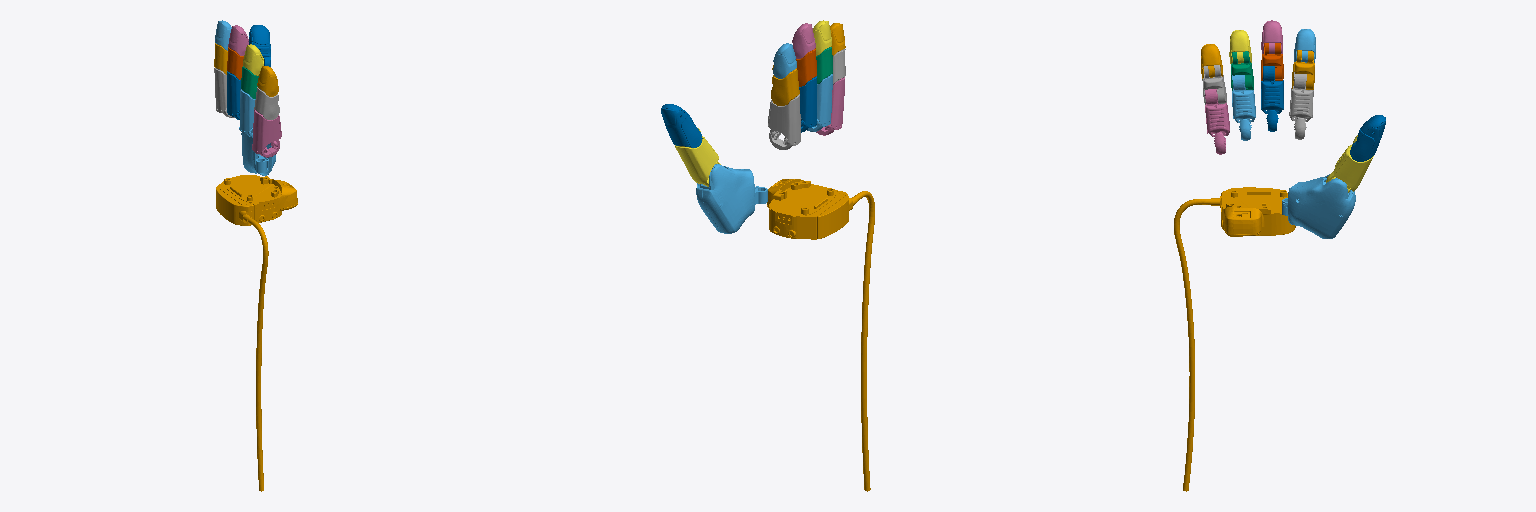
robot.urdf — p24_r_hand:
<?xml version="1.0"?>
<!-- Generated from P2.4_Hand-DH-20241204.pdf. Lengths are in metres. -->
<robot name="p24_r_hand">
  <link name="palm">
    <inertial>
			<origin xyz="0.002067 0.005130 0.060716" rpy="0 0 0" />
			<mass value="0.957071" />
			<inertia ixx="0.005098" ixy="-0.000059" ixz="-0.000016" iyy="0.004495" iyz="-0.00032" izz="0.001042" />
		    </inertial>
		
    <visual>
      <geometry><mesh filename="meshes/visual/P2.4_Hand_R_Palm.STL"/></geometry>
    </visual>
    <visual>
      <geometry><mesh filename="meshes/visual/P2.4_Hand_R_Wrist.STL"/></geometry>
    </visual>
  </link>

  <!-- Right thumb topology and kinematics match agile_one_actuated_p24_hands.urdf. -->
  <link name="thumb_mp_link">
    <inertial>
			<origin xyz="0.035239 0.008155 0.027352" rpy="0 0 0" />
			<mass value="0.210044" />
			<inertia ixx="0.00023" ixy="-0.00007" ixz="-0.000185" iyy="0.000545" iyz="-0.00004" izz="0.00037" />
		    </inertial>
		
    <visual>
      <geometry><mesh filename="meshes/visual/P2.4_Hand_Thumb_MP.STL"/></geometry>
    </visual>
  </link>
  <joint name="thumb_dh_joint_1" type="revolute">
    <parent link="palm"/>
    <child link="thumb_mp_link"/>
    <origin xyz="0.02963 0.029696 0.070725" rpy="3.1415926 0 1.3352"/>
    <axis xyz="0 0 1"/>
    <limit lower="0" upper="1.169370599" effort="1" velocity="2"/>
  </joint>
  <link name="thumb_dh_2_link">
    <inertial>
			<origin xyz="0.031054 0.004577 -0.000485" rpy="0 0 0" />
			<mass value="0.08195" />
			<inertia ixx="0.00001" ixy="-0.000016" ixz="0.000002" iyy="0.00011" iyz="0.0" izz="0.000113" />
		    </inertial>
	</link>
  <joint name="thumb_dh_joint_2" type="revolute">
    <parent link="thumb_mp_link"/>
    <child link="thumb_dh_2_link"/>
    <origin xyz="0.05709627667 0.0143836573032 0.00242240917971" rpy="-1.30592529 0.88356936 0.20667985"/>
    <axis xyz="0 0 1"/>
    <limit lower="-0.3490658504" upper="1.3962634015" effort="1" velocity="2"/>
  </joint>
  <link name="thumb_ip_link">
    <inertial>
			<origin xyz="0.031054 -0.000485 0.004714" rpy="0 0 0" />
			<mass value="0.08195" />
			<inertia ixx="0.00001" ixy="0.000002" ixz="-0.000007" iyy="0.000113" iyz="0.0" izz="0.00011" />
		    </inertial>
		
    <visual>
      <geometry><mesh filename="meshes/visual/P2.4_Hand_R_Thumb_IP.STL"/></geometry>
    </visual>
  </link>
  <joint name="thumb_dh_joint_3" type="revolute">
    <parent link="thumb_dh_2_link"/>
    <child link="thumb_ip_link"/>
    <origin xyz="0 0.00929017751 0" rpy="1.5707963267949032679 0 0"/>
    <axis xyz="0 0 1"/>
    <limit lower="-0.3490658504" upper="0.3490658504" effort="1" velocity="2"/>
  </joint>
  <link name="thumb_mid_link">
    <inertial>
			<origin xyz="0.018374 -0.002648 0.001138" rpy="0 0 0" />
			<mass value="0.045492" />
			<inertia ixx="0.000004" ixy="0.000002" ixz="0.0" iyy="0.000025" iyz="0.0" izz="0.000025" />
		    </inertial>
		
    <visual>
      <geometry><mesh filename="meshes/visual/P2.4_Hand_Thumb_DIP.STL"/></geometry>
    </visual>
  </link>
  <joint name="thumb_dh_joint_4" type="revolute">
    <parent link="thumb_ip_link"/>
    <child link="thumb_mid_link"/>
    <origin xyz="0.05268721479 0 0" rpy="-1.5707963267949032679 0.26179939 0"/>
    <axis xyz="0 0 1"/>
    <limit lower="0" upper="1.3962634015" effort="1" velocity="2"/>
  </joint>

  <!--
    Virtual marker at the physical thumb tip. The offset is expressed in the
    thumb_mid_link frame and is estimated from the distal surface center of
    P2.4_Hand_Thumb_DIP.STL. Keeping it off the joint-4 axis makes the distal
    thumb flexion observable to position-based retargeting.
  -->
  <link name="thumb_tip_link"/>
  <joint name="thumb_tip_fixed" type="fixed">
    <parent link="thumb_mid_link"/>
    <child link="thumb_tip_link"/>
    <origin xyz="0.044 -0.0075 0" rpy="0 0 0"/>
  </joint>

  <!-- index: base pose and DH values from the supplied PDF. -->
  <link name="index_dh_1_link">
    <inertial>
			<origin xyz="0.027967 0.004188 -0.00067" rpy="0 0 0" />
			<mass value="0.072625" />
			<inertia ixx="0.000008" ixy="-0.000013" ixz="0.000003" iyy="0.000082" iyz="0.0" izz="0.000086" />
		    </inertial>
	</link>
  <joint name="index_dh_joint_1" type="revolute">
    <parent link="palm"/>
    <child link="index_dh_1_link"/>
    <origin xyz="-0.0005286 0.042073 0.10476" rpy="1.8029 -1.3021 2.9176"/>
    <axis xyz="0 0 1"/>
    <limit lower="0" upper="1.3962634016" effort="1" velocity="2"/>
  </joint>
  <link name="index_mp_link">
    <inertial>
			<origin xyz="0.027967 -0.000670 0.004668" rpy="0 0 0" />
			<mass value="0.072625" />
			<inertia ixx="0.000008" ixy="0.000003" ixz="-0.000005" iyy="0.000086" iyz="0.0" izz="0.000082" />
		    </inertial>
		
    <visual>
      <geometry><mesh filename="meshes/visual/Finger_R_MP.STL"/></geometry>
    </visual>
  </link>
  <joint name="index_dh_joint_2" type="revolute">
    <parent link="index_dh_1_link"/>
    <child link="index_mp_link"/>
    <origin xyz="0 0.008825605706 0" rpy="1.5707963267949032679 0 0"/>
    <axis xyz="0 0 1"/>
    <limit lower="-0.2617993878" upper="0.2617993878" effort="1" velocity="2"/>
  </joint>
  <link name="index_ip_link">
    <inertial>
			<origin xyz="-0.001563 0.014683 -0.001827" rpy="0 0 0" />
			<mass value="0.031821" />
			<inertia ixx="0.000012" ixy="0.000001" ixz="0.0" iyy="0.000002" iyz="0.000001" izz="0.000012" />
		    </inertial>
		
    <visual>
      <geometry><mesh filename="meshes/visual/Finger_IP.STL"/></geometry>
    </visual>
  </link>
  <joint name="index_dh_joint_3" type="revolute">
    <parent link="index_mp_link"/>
    <child link="index_ip_link"/>
    <origin xyz="0.0502251954 0 0" rpy="-1.5707963267949032679 0.2617993878 0"/>
    <axis xyz="0 0 1"/>
    <limit lower="0" upper="1.3962634016" effort="1" velocity="2"/>
  </joint>
  <link name="index_dip_link">
    <inertial>
			<origin xyz="-0.002097 0.009035 0.000249" rpy="0 0 0" />
			<mass value="0.013199" />
			<inertia ixx="0.000002" ixy="0.0" ixz="0.0" iyy="0.000001" iyz="0.0" izz="0.000002" />
		    </inertial>
		
    <visual>
      <geometry><mesh filename="meshes/visual/Finger_DIP.STL"/></geometry>
    </visual>
  </link>
  <joint name="index_dh_joint_4" type="revolute">
    <parent link="index_ip_link"/>
    <child link="index_dip_link"/>
    <origin xyz="0.028 0 0" rpy="0 0 0.08726646"/>
    <axis xyz="0 0 1"/>
    <limit lower="0" upper="1.3962634016" effort="1" velocity="2"/>
    <mimic joint="index_dh_joint_3" multiplier="1" offset="0"/>
  </joint>
  <link name="index_tip_link"></link>
  <joint name="index_tip_fixed" type="fixed">
    <parent link="index_dip_link"/>
    <child link="index_tip_link"/>
    <origin xyz="0.034 0 0" rpy="0 0 0"/>
  </joint>

  <!-- middle: base pose and DH values from the supplied PDF. -->
  <link name="middle_dh_1_link">
    <inertial>
			<origin xyz="0.027967 0.004188 -0.00067" rpy="0 0 0" />
			<mass value="0.072625" />
			<inertia ixx="0.000008" ixy="-0.000013" ixz="0.000003" iyy="0.000082" iyz="0.0" izz="0.000086" />
		    </inertial>
	</link>
  <joint name="middle_dh_joint_1" type="revolute">
    <parent link="palm"/>
    <child link="middle_dh_1_link"/>
    <origin xyz="-0.0023699 0.013696 0.11285" rpy="1.5708 -1.309 -3.1416"/>
    <axis xyz="0 0 1"/>
    <limit lower="0" upper="1.3962634016" effort="1" velocity="2"/>
  </joint>
  <link name="middle_mp_link">
    <inertial>
			<origin xyz="0.027967 -0.000670 0.004668" rpy="0 0 0" />
			<mass value="0.072625" />
			<inertia ixx="0.000008" ixy="0.000003" ixz="-0.000005" iyy="0.000086" iyz="0.0" izz="0.000082" />
		    </inertial>
		
    <visual>
      <geometry><mesh filename="meshes/visual/Finger_R_MP.STL"/></geometry>
    </visual>
  </link>
  <joint name="middle_dh_joint_2" type="revolute">
    <parent link="middle_dh_1_link"/>
    <child link="middle_mp_link"/>
    <origin xyz="0 0.008825605706 0" rpy="1.5707963267949032679 0 0"/>
    <axis xyz="0 0 1"/>
    <limit lower="-0.2617993878" upper="0.2617993878" effort="1" velocity="2"/>
  </joint>
  <link name="middle_ip_link">
    <inertial>
			<origin xyz="-0.001563 0.014683 -0.001827" rpy="0 0 0" />
			<mass value="0.031821" />
			<inertia ixx="0.000012" ixy="0.000001" ixz="0.0" iyy="0.000002" iyz="0.000001" izz="0.000012" />
		    </inertial>
		
    <visual>
      <geometry><mesh filename="meshes/visual/Finger_IP.STL"/></geometry>
    </visual>
  </link>
  <joint name="middle_dh_joint_3" type="revolute">
    <parent link="middle_mp_link"/>
    <child link="middle_ip_link"/>
    <origin xyz="0.0502251954 0 0" rpy="-1.5707963267949032679 0.2617993878 0"/>
    <axis xyz="0 0 1"/>
    <limit lower="0" upper="1.3962634016" effort="1" velocity="2"/>
  </joint>
  <link name="middle_dip_link">
    <inertial>
			<origin xyz="-0.002097 0.009035 0.000249" rpy="0 0 0" />
			<mass value="0.013199" />
			<inertia ixx="0.000002" ixy="0.0" ixz="0.0" iyy="0.000001" iyz="0.0" izz="0.000002" />
		    </inertial>
		
    <visual>
      <geometry><mesh filename="meshes/visual/Finger_DIP.STL"/></geometry>
    </visual>
  </link>
  <joint name="middle_dh_joint_4" type="revolute">
    <parent link="middle_ip_link"/>
    <child link="middle_dip_link"/>
    <origin xyz="0.028 0 0" rpy="0 0 0.08726646"/>
    <axis xyz="0 0 1"/>
    <limit lower="0" upper="1.3962634016" effort="1" velocity="2"/>
    <mimic joint="middle_dh_joint_3" multiplier="1" offset="0"/>
  </joint>
  <link name="middle_tip_link"></link>
  <joint name="middle_tip_fixed" type="fixed">
    <parent link="middle_dip_link"/>
    <child link="middle_tip_link"/>
    <origin xyz="0.034 0 0" rpy="0 0 0"/>
  </joint>

  <!-- ring: base pose and DH values from the supplied PDF. -->
  <link name="ring_dh_1_link">
    <inertial>
			<origin xyz="0.027967 0.004188 -0.00067" rpy="0 0 0" />
			<mass value="0.072625" />
			<inertia ixx="0.000008" ixy="-0.000013" ixz="0.000003" iyy="0.000082" iyz="0.0" izz="0.000086" />
		    </inertial>
	</link>
  <joint name="ring_dh_joint_1" type="revolute">
    <parent link="palm"/>
    <child link="ring_dh_1_link"/>
    <origin xyz="-0.0023699 -0.013787 0.10271" rpy="1.3387 -1.3021 -2.9176"/>
    <axis xyz="0 0 1"/>
    <limit lower="0" upper="1.3962634016" effort="1" velocity="2"/>
  </joint>
  <link name="ring_mp_link">
    <inertial>
			<origin xyz="0.027967 -0.000670 0.004668" rpy="0 0 0" />
			<mass value="0.072625" />
			<inertia ixx="0.000008" ixy="0.000003" ixz="-0.000005" iyy="0.000086" iyz="0.0" izz="0.000082" />
		    </inertial>
		
    <visual>
      <geometry><mesh filename="meshes/visual/Finger_R_MP.STL"/></geometry>
    </visual>
  </link>
  <joint name="ring_dh_joint_2" type="revolute">
    <parent link="ring_dh_1_link"/>
    <child link="ring_mp_link"/>
    <origin xyz="0 0.008825605706 0" rpy="1.5707963267949032679 0 0"/>
    <axis xyz="0 0 1"/>
    <limit lower="-0.2617993878" upper="0.2617993878" effort="1" velocity="2"/>
  </joint>
  <link name="ring_ip_link">
    <inertial>
			<origin xyz="-0.001563 0.014683 -0.001827" rpy="0 0 0" />
			<mass value="0.031821" />
			<inertia ixx="0.000012" ixy="0.000001" ixz="0.0" iyy="0.000002" iyz="0.000001" izz="0.000012" />
		    </inertial>
		
    <visual>
      <geometry><mesh filename="meshes/visual/Finger_IP.STL"/></geometry>
    </visual>
  </link>
  <joint name="ring_dh_joint_3" type="revolute">
    <parent link="ring_mp_link"/>
    <child link="ring_ip_link"/>
    <origin xyz="0.0502251954 0 0" rpy="-1.5707963267949032679 0.2617993878 0"/>
    <axis xyz="0 0 1"/>
    <limit lower="0" upper="1.3962634016" effort="1" velocity="2"/>
  </joint>
  <link name="ring_dip_link">
    <inertial>
			<origin xyz="-0.002097 0.009035 0.000249" rpy="0 0 0" />
			<mass value="0.013199" />
			<inertia ixx="0.000002" ixy="0.0" ixz="0.0" iyy="0.000001" iyz="0.0" izz="0.000002" />
		    </inertial>
		
    <visual>
      <geometry><mesh filename="meshes/visual/Finger_DIP.STL"/></geometry>
    </visual>
  </link>
  <joint name="ring_dh_joint_4" type="revolute">
    <parent link="ring_ip_link"/>
    <child link="ring_dip_link"/>
    <origin xyz="0.028 0 0" rpy="0 0 0.08726646"/>
    <axis xyz="0 0 1"/>
    <limit lower="0" upper="1.3962634016" effort="1" velocity="2"/>
    <mimic joint="ring_dh_joint_3" multiplier="1" offset="0"/>
  </joint>
  <link name="ring_tip_link"></link>
  <joint name="ring_tip_fixed" type="fixed">
    <parent link="ring_dip_link"/>
    <child link="ring_tip_link"/>
    <origin xyz="0.034 0 0" rpy="0 0 0"/>
  </joint>

  <!-- little: base pose and DH values from the supplied PDF. -->
  <link name="little_dh_1_link">
    <inertial>
			<origin xyz="0.027967 0.004188 -0.00067" rpy="0 0 0" />
			<mass value="0.072625" />
			<inertia ixx="0.000008" ixy="-0.000013" ixz="0.000003" iyy="0.000082" iyz="0.0" izz="0.000086" />
		    </inertial>
	</link>
  <joint name="little_dh_joint_1" type="revolute">
    <parent link="palm"/>
    <child link="little_dh_1_link"/>
    <origin xyz="-0.0005 -0.039436 0.08816" rpy="1.185 -1.2893 -2.7696"/>
    <axis xyz="0 0 1"/>
    <limit lower="0" upper="1.3962634016" effort="1" velocity="2"/>
  </joint>
  <link name="little_mp_link">
    <inertial>
			<origin xyz="0.027967 -0.000670 0.004668" rpy="0 0 0" />
			<mass value="0.072625" />
			<inertia ixx="0.000008" ixy="0.000003" ixz="-0.000005" iyy="0.000086" iyz="0.0" izz="0.000082" />
		    </inertial>
		
    <visual>
      <geometry><mesh filename="meshes/visual/Finger_R_MP.STL"/></geometry>
    </visual>
  </link>
  <joint name="little_dh_joint_2" type="revolute">
    <parent link="little_dh_1_link"/>
    <child link="little_mp_link"/>
    <origin xyz="0 0.008825605706 0" rpy="1.5707963267949032679 0 0"/>
    <axis xyz="0 0 1"/>
    <limit lower="-0.2617993878" upper="0.2617993878" effort="1" velocity="2"/>
  </joint>
  <link name="little_ip_link">
    <inertial>
			<origin xyz="-0.001563 0.014683 -0.001827" rpy="0 0 0" />
			<mass value="0.031821" />
			<inertia ixx="0.000012" ixy="0.000001" ixz="0.0" iyy="0.000002" iyz="0.000001" izz="0.000012" />
		    </inertial>
		
    <visual>
      <geometry><mesh filename="meshes/visual/Finger_IP.STL"/></geometry>
    </visual>
  </link>
  <joint name="little_dh_joint_3" type="revolute">
    <parent link="little_mp_link"/>
    <child link="little_ip_link"/>
    <origin xyz="0.0502251954 0 0" rpy="-1.5707963267949032679 0.2617993878 0"/>
    <axis xyz="0 0 1"/>
    <limit lower="0" upper="1.3962634016" effort="1" velocity="2"/>
  </joint>
  <link name="little_dip_link">
    <inertial>
			<origin xyz="-0.002097 0.009035 0.000249" rpy="0 0 0" />
			<mass value="0.013199" />
			<inertia ixx="0.000002" ixy="0.0" ixz="0.0" iyy="0.000001" iyz="0.0" izz="0.000002" />
		    </inertial>
		
    <visual>
      <geometry><mesh filename="meshes/visual/Finger_DIP.STL"/></geometry>
    </visual>
  </link>
  <joint name="little_dh_joint_4" type="revolute">
    <parent link="little_ip_link"/>
    <child link="little_dip_link"/>
    <origin xyz="0.028 0 0" rpy="0 0 0.08726646"/>
    <axis xyz="0 0 1"/>
    <limit lower="0" upper="1.3962634016" effort="1" velocity="2"/>
    <mimic joint="little_dh_joint_3" multiplier="1" offset="0"/>
  </joint>
  <link name="little_tip_link"></link>
  <joint name="little_tip_fixed" type="fixed">
    <parent link="little_dip_link"/>
    <child link="little_tip_link"/>
    <origin xyz="0.034 0 0" rpy="0 0 0"/>
  </joint>
</robot>

--- Facts derived from the render (not from the file) ---
3 views of the same robot in one strip: view 1: azimuth 30°, elevation 25°; view 2: azimuth 150°, elevation 25°; view 3: azimuth 270°, elevation 25° (orthographic).
Robot: p24_r_hand — 26 links, 25 joints (20 revolute, 5 fixed); root link palm; default pose: every joint at zero.
Links seen in each view (by area): view 1: palm, little_mp_link, thumb_mp_link, thumb_mid_link, ring_mp_link, middle_mp_link, little_ip_link; view 2: palm, thumb_mp_link, index_mp_link, thumb_mid_link, thumb_ip_link, middle_mp_link, ring_mp_link, index_ip_link, little_mp_link, index_dip_link, middle_dip_link, middle_ip_link; view 3: palm, thumb_mp_link, index_mp_link, little_mp_link, ring_mp_link, middle_mp_link, thumb_mid_link, thumb_ip_link, little_ip_link, middle_ip_link, index_ip_link, ring_ip_link (+3 smaller).
Link boxes in pixels (left/top/right/bottom): palm: left=216, top=175, right=297, bottom=491; little_mp_link: left=252, top=109, right=281, bottom=157; thumb_mp_link: left=241, top=133, right=275, bottom=175; thumb_mid_link: left=249, top=25, right=270, bottom=66; ring_mp_link: left=239, top=89, right=255, bottom=137; middle_mp_link: left=227, top=71, right=240, bottom=119; little_ip_link: left=254, top=87, right=279, bottom=119; palm: left=767, top=179, right=874, bottom=491; thumb_mp_link: left=696, top=164, right=767, bottom=233; index_mp_link: left=768, top=94, right=800, bottom=149; thumb_mid_link: left=661, top=104, right=702, bottom=147; thumb_ip_link: left=675, top=128, right=720, bottom=186; middle_mp_link: left=799, top=76, right=816, bottom=132; ring_mp_link: left=801, top=74, right=832, bottom=131; index_ip_link: left=771, top=65, right=799, bottom=105; little_mp_link: left=816, top=77, right=844, bottom=135; index_dip_link: left=773, top=43, right=796, bottom=78; middle_dip_link: left=792, top=23, right=815, bottom=58; middle_ip_link: left=796, top=48, right=816, bottom=86; palm: left=1174, top=187, right=1295, bottom=491; thumb_mp_link: left=1282, top=174, right=1355, bottom=238; index_mp_link: left=1289, top=72, right=1313, bottom=139; little_mp_link: left=1205, top=89, right=1229, bottom=154; ring_mp_link: left=1232, top=75, right=1255, bottom=140; middle_mp_link: left=1261, top=66, right=1283, bottom=131; thumb_mid_link: left=1350, top=115, right=1385, bottom=161; thumb_ip_link: left=1326, top=135, right=1373, bottom=192; little_ip_link: left=1202, top=65, right=1226, bottom=104; middle_ip_link: left=1261, top=43, right=1283, bottom=80; index_ip_link: left=1292, top=50, right=1314, bottom=89; ring_ip_link: left=1231, top=51, right=1253, bottom=90.
Bounding box of the posed robot: 0.1294 × 0.2163 × 0.5348 m (x, y, z).
Meshes: 8 distinct files referenced, 16 mesh visuals loaded (7 binary STL); not drawn: 1 (reference not matched to a file when rendering).
